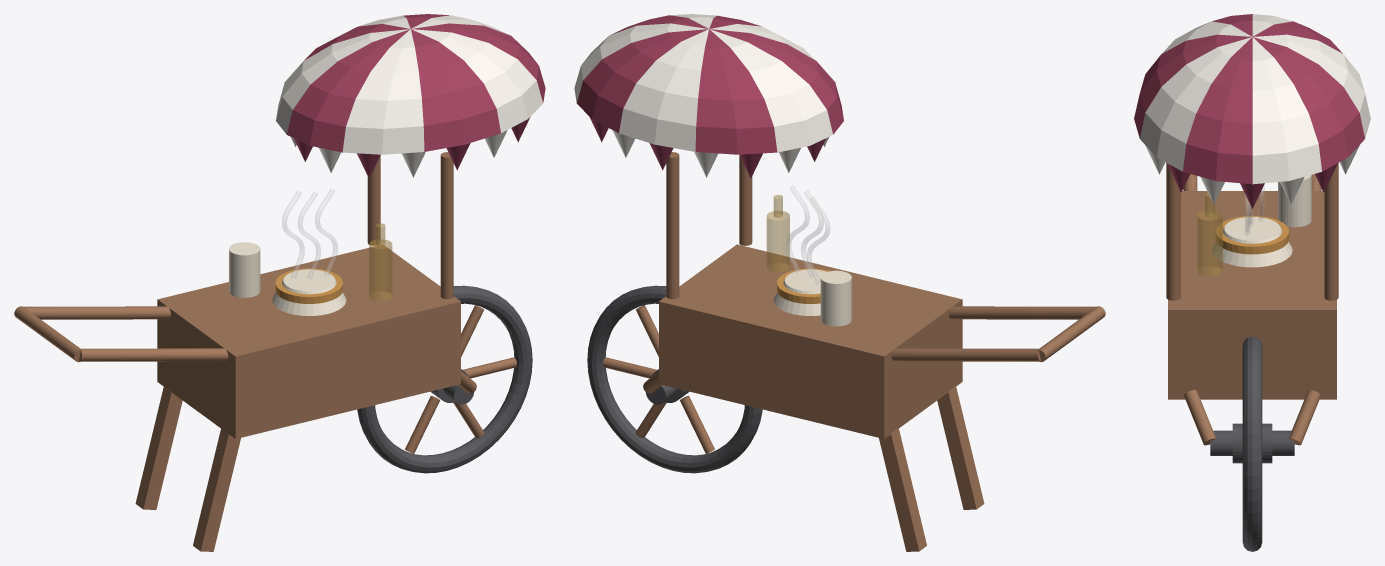
Rendered from cart.glb.
3 views of the same model, side by side, from view 1: azimuth 30°, elevation 25°; view 2: azimuth 150°, elevation 25°; view 3: azimuth 270°, elevation 25° (orthographic). The views are drawn at different scales.
Parts seen in each view (by area): view 1: CartBody, Wheel, Bowl, Cup, BottleBody, BowlFood; view 2: CartBody, Wheel, Cup, BottleBody, Bowl, BowlFood; view 3: CartBody, Wheel, Bowl, BottleBody, Cup, BowlFood.
Boxes of the visible parts, x1,y1,x2,y2 form: CartBody: [14, 14, 545, 551]; Wheel: [357, 285, 532, 473]; Bowl: [272, 269, 346, 315]; Cup: [229, 242, 260, 297]; BottleBody: [369, 239, 392, 300]; BowlFood: [275, 268, 342, 303]; CartBody: [574, 14, 1105, 551]; Wheel: [587, 285, 762, 473]; Cup: [820, 270, 851, 326]; BottleBody: [766, 211, 789, 272]; Bowl: [773, 269, 826, 315]; BowlFood: [777, 268, 829, 303]; CartBody: [1134, 14, 1370, 455]; Wheel: [1232, 336, 1272, 551]; Bowl: [1212, 216, 1292, 267]; BottleBody: [1197, 210, 1222, 276]; Cup: [1278, 175, 1311, 227]; BowlFood: [1215, 215, 1289, 254].
Size of the model in its own units: 2.17 by 1.9 by 0.84.
